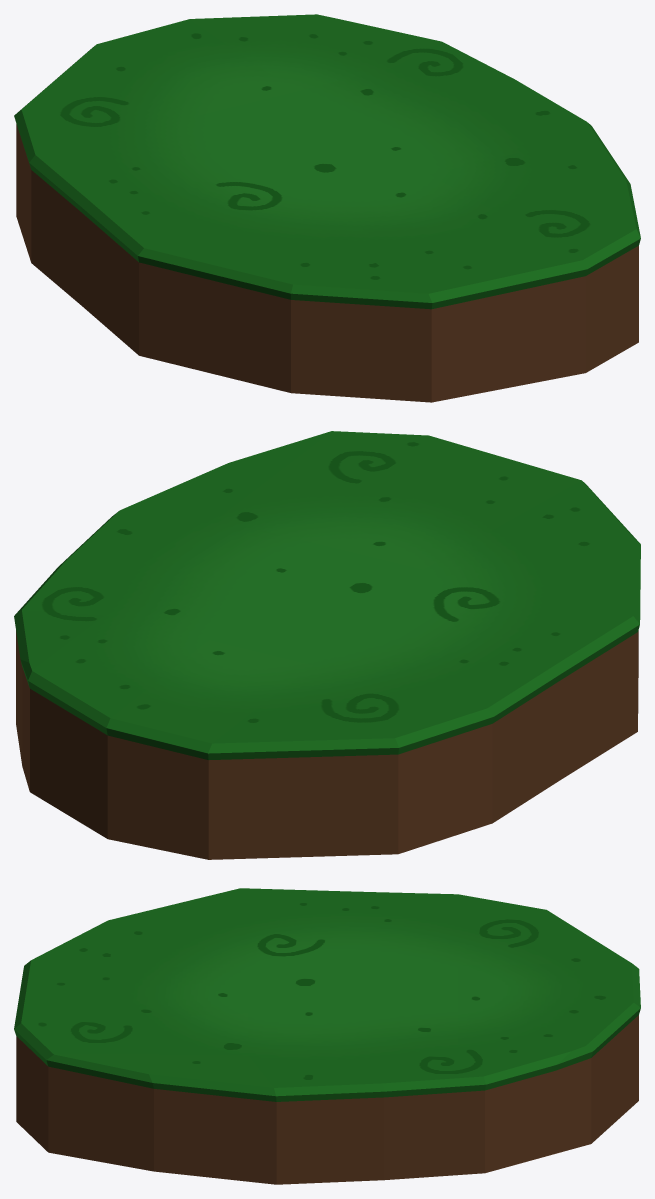
The model's file is SmallPlatform2.fbx.
3 views of the same model, one above another, from view 1: azimuth 30°, elevation 25°; view 2: azimuth 150°, elevation 25°; view 3: azimuth 270°, elevation 25° (orthographic). The views are drawn at different scales.
Parts seen in each view (by area): view 1: GrassPatch; view 2: GrassPatch; view 3: GrassPatch.
Part boxes in pixels (x1,y1,x2,y2): GrassPatch: [14, 14, 640, 402]; GrassPatch: [14, 431, 640, 859]; GrassPatch: [14, 888, 640, 1184].
Size of the model in its own units: 970 by 217 by 1253.
Materials: 1 (1 with a texture image).
